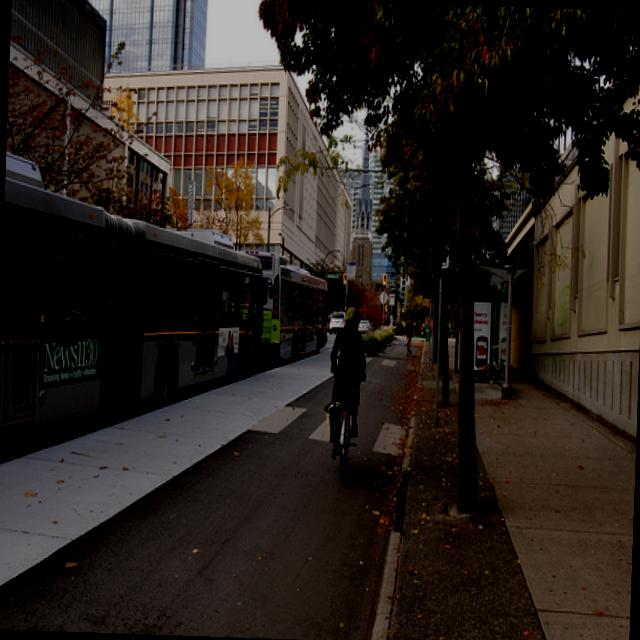Vehicle: (0, 160, 270, 476), (240, 249, 331, 363)
